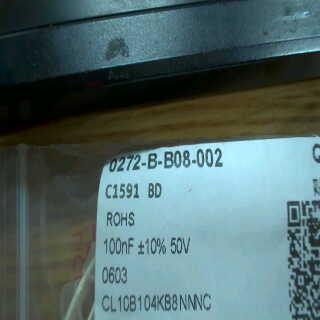100nF: (101, 233, 135, 260)
